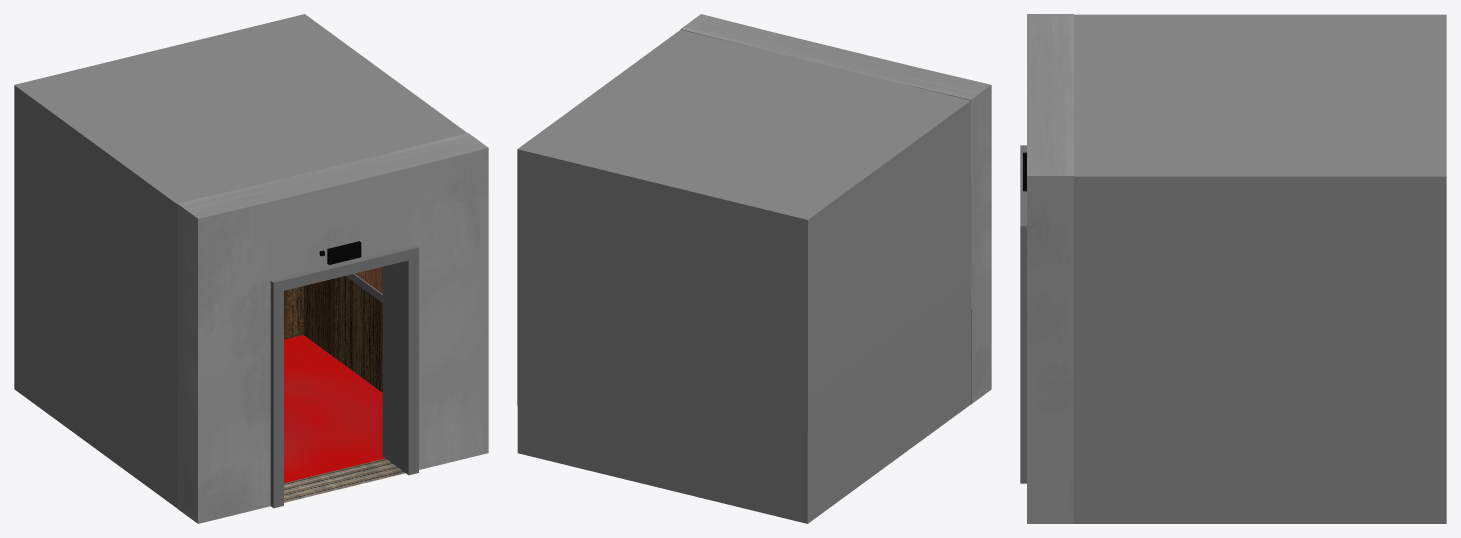
The model's file is geo_Elevator_Base.fbx.
The picture shows the model from 3 angles, left to right: view 1: azimuth 30°, elevation 25°; view 2: azimuth 150°, elevation 25°; view 3: azimuth 270°, elevation 25°; orthographic projection. The views are drawn at different scales.
Parts seen in each view (by area): view 1: geo_elevator_exterior_simple, geo_elevator_interior_front, geo_elevator_interior_simple, geo_elevator_doorFrame, geo_floorDisplay; view 2: geo_elevator_exterior_simple, geo_elevator_interior_front; view 3: geo_elevator_exterior_simple, geo_elevator_interior_front, geo_elevator_doorFrame.
Part boxes in pixels (left/top/right/bottom): geo_elevator_exterior_simple: left=14, top=14, right=466, bottom=508; geo_elevator_interior_front: left=177, top=133, right=488, bottom=523; geo_elevator_interior_simple: left=284, top=267, right=405, bottom=502; geo_elevator_doorFrame: left=270, top=245, right=418, bottom=508; geo_floorDisplay: left=327, top=241, right=361, bottom=264; geo_elevator_exterior_simple: left=517, top=30, right=971, bottom=523; geo_elevator_interior_front: left=680, top=14, right=991, bottom=404; geo_elevator_exterior_simple: left=1073, top=14, right=1446, bottom=523; geo_elevator_interior_front: left=1027, top=14, right=1073, bottom=523; geo_elevator_doorFrame: left=1020, top=145, right=1026, bottom=483.
Bounding box in the file's own units: 81.5 × 81.73 × 90.7.
6 materials, 3 textured.
